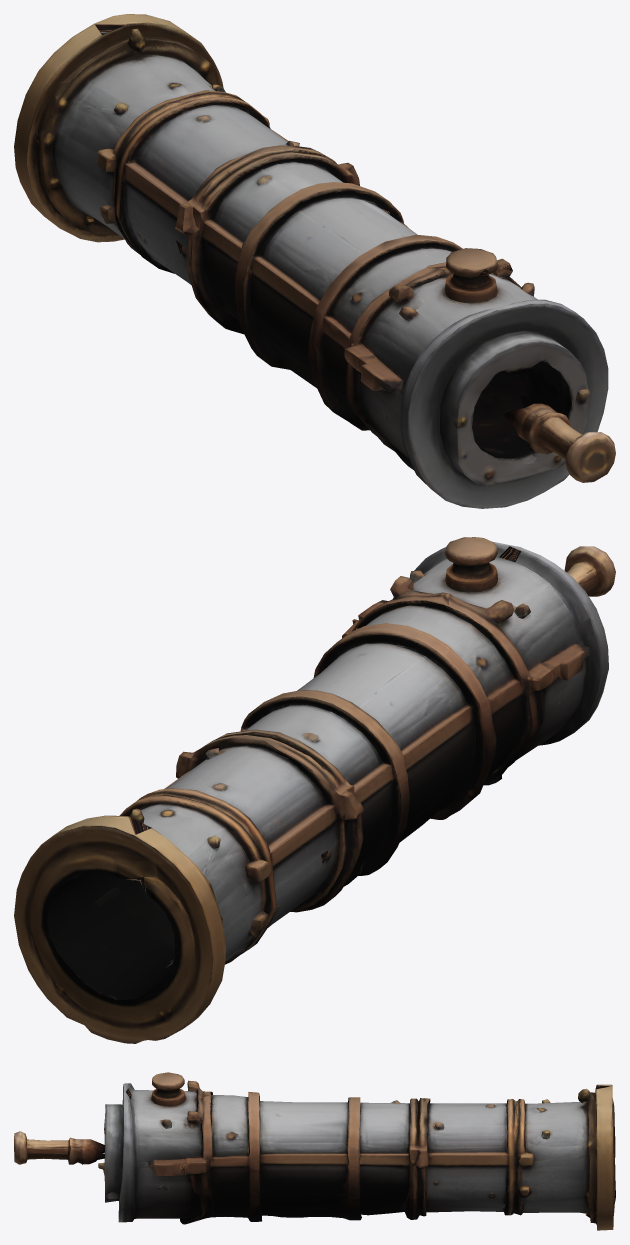
File: canon.glb
3 views of the same model, one above another, from view 1: azimuth 30°, elevation 25°; view 2: azimuth 150°, elevation 25°; view 3: azimuth 270°, elevation 25° (orthographic). The views are drawn at different scales.
Parts seen in each view (by area): view 1: world.001; view 2: world.001; view 3: world.001.
Boxes of the visible parts, <box> form: world.001: <box>14,14,615,508</box>; world.001: <box>14,537,615,1043</box>; world.001: <box>14,1072,615,1230</box>.
Size of the model in its own units: 0.2503 by 0.2669 by 1.
Materials: 1 (1 with a texture image).
